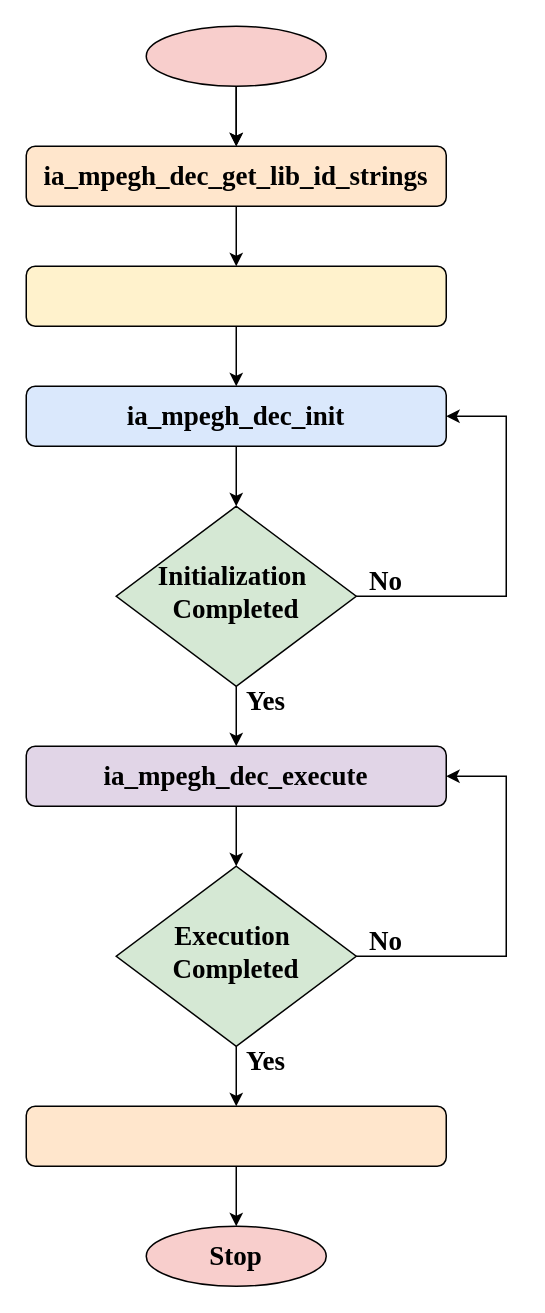
Image size: 545x1313. Some labels were removed from this diagram. The shapes that lost their labels are listed below. From the top down, each one's centre as x and y in pixels, then its label:
[235,55]: Start
[235,295]: ia_mpegh_dec_create
[235,1135]: ia_mpegh_dec_delete
